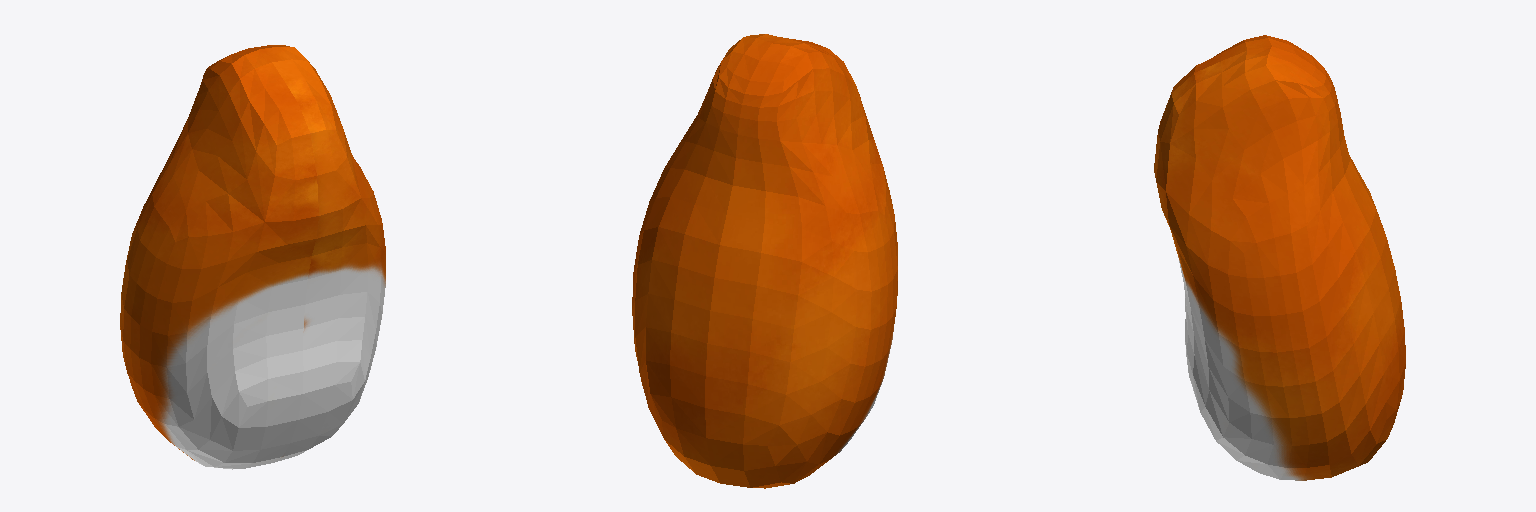
3 renders of one model, left to right at view 1: azimuth 30°, elevation 25°; view 2: azimuth 150°, elevation 25°; view 3: azimuth 270°, elevation 25°, orthographic.
Visible parts, largest first — view 1: Body; view 2: Body; view 3: Body.
Boxes of the visible parts, x1,y1,x2,y2 form: Body: [120, 45, 385, 469]; Body: [632, 34, 897, 488]; Body: [1154, 35, 1405, 480].
Bounding box in the file's own units: 1.55 × 2.62 × 1.43.
Materials: 1 (1 with a texture image).